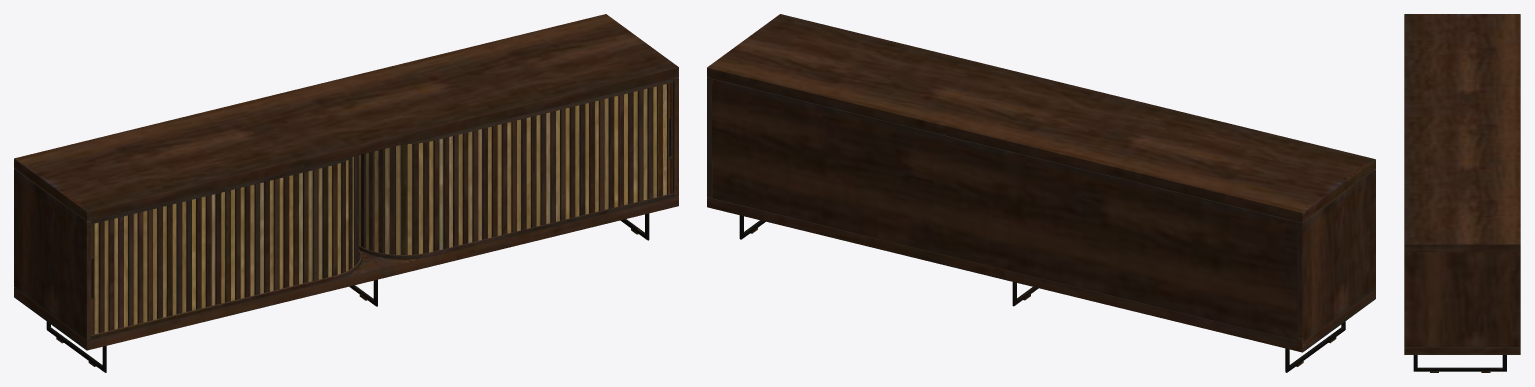
The picture shows the model from 3 angles, left to right: view 1: azimuth 30°, elevation 25°; view 2: azimuth 150°, elevation 25°; view 3: azimuth 270°, elevation 25°; orthographic projection. The views are drawn at different scales.
Visible parts, largest first — view 1: modern_wooden_cabinet_body, modern_wooden_cabinet_door_r, modern_wooden_cabinet_door_l; view 2: modern_wooden_cabinet_body; view 3: modern_wooden_cabinet_body.
Boxes of the visible parts, x1=… form: modern_wooden_cabinet_body: x1=14, y1=14, x2=678, y2=372; modern_wooden_cabinet_door_r: x1=359, y1=82, x2=672, y2=254; modern_wooden_cabinet_door_l: x1=91, y1=155, x2=358, y2=334; modern_wooden_cabinet_body: x1=707, y1=14, x2=1375, y2=372; modern_wooden_cabinet_body: x1=1404, y1=14, x2=1520, y2=372.
Size of the model in its own units: 2.44 by 0.6801 by 0.52.
Materials: 1 (1 with a texture image).
